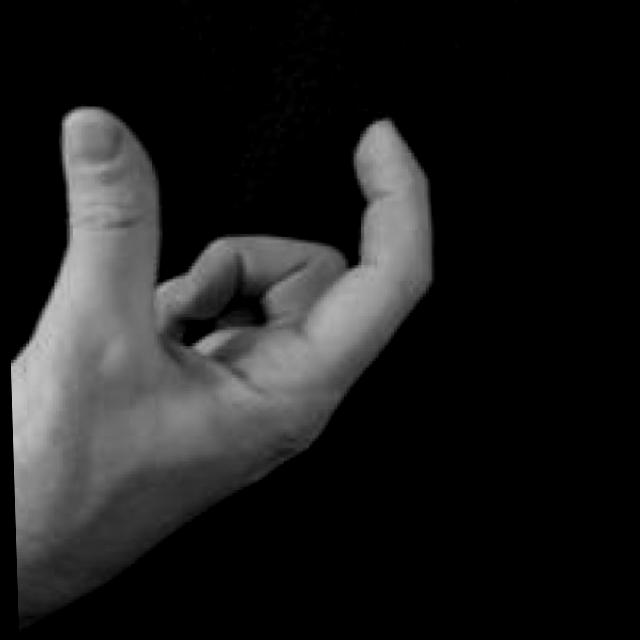U: (2, 73, 448, 640)
